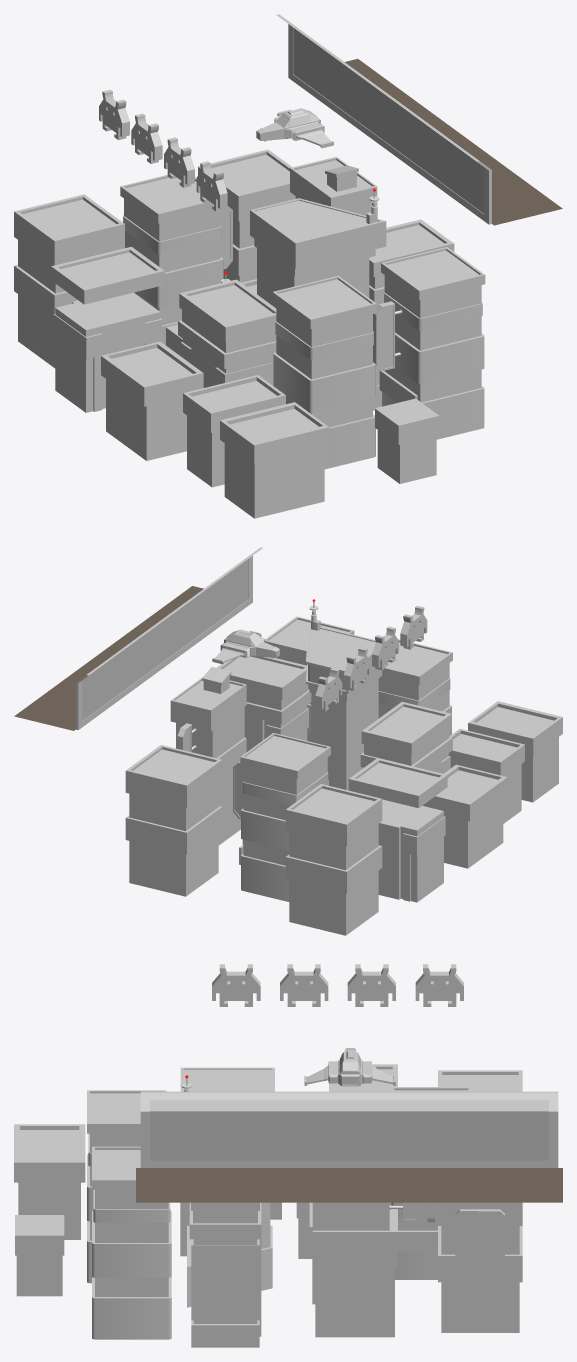
Rendered from Shooting_R.fbx.
3 renders of one model, top to bottom at view 1: azimuth 30°, elevation 25°; view 2: azimuth 150°, elevation 25°; view 3: azimuth 270°, elevation 25°, orthographic. The views are drawn at different scales.
Parts seen in each view (by area): view 1: Cube.507, Cube.510, Cube.497, Cube.443, Cube.489, Cube.494, Cube.481, Cube.508, Genre.009, Plane.085, Cube.491, Cube.470 (+36 smaller); view 2: Cube.510, Cube.489, Cube.470, Cube.490, Cube.471, Cube.497, Cube.507, Cube.446, Genre.009, Cube.481, Plane.085, Cube.491 (+29 smaller); view 3: Cube.510, Genre.009, Cube.468, Cube.509, Cube.507, Plane.085, Cube.471, Cube.472, Cube.451, Cube.508, Cube.504, Cube.502 (+22 smaller).
Boxes of the visible parts, x1,y1,x2,y2 form: Cube.507: (220,402,329,518); Cube.510: (293,28,484,213); Cube.497: (101,341,203,460); Cube.443: (250,198,386,268); Cube.489: (14,194,124,293); Cube.494: (55,292,160,412); Cube.481: (183,375,285,487); Cube.508: (375,398,439,483); Genre.009: (345,58,562,225); Plane.085: (99,89,227,211); Cube.491: (51,246,164,304); Cube.470: (198,149,295,248); Cube.510: (82,559,248,720); Cube.489: (285,784,382,870); Cube.470: (125,745,222,831); Cube.490: (285,845,382,935); Cube.471: (125,806,222,896); Cube.497: (422,764,507,868); Cube.507: (468,701,562,802); Cube.446: (311,678,378,790); Genre.009: (14,586,203,730); Cube.481: (448,728,524,823); Plane.085: (315,605,427,711); Cube.491: (348,758,447,808); Cube.510: (150,1100,548,1160); Genre.009: (136,1168,562,1202); Cube.468: (312,1209,397,1337); Cube.509: (140,1091,558,1167); Cube.507: (14,1124,85,1239); Plane.085: (212,964,463,1006); Cube.471: (438,1226,522,1332); Cube.472: (455,1209,504,1292); Cube.451: (193,1239,257,1323); Cube.508: (15,1215,64,1296); Cube.504: (92,1277,171,1339); Cube.502: (92,1211,171,1277).
Bounding box in the file's own units: 1552 × 1815 × 983.
